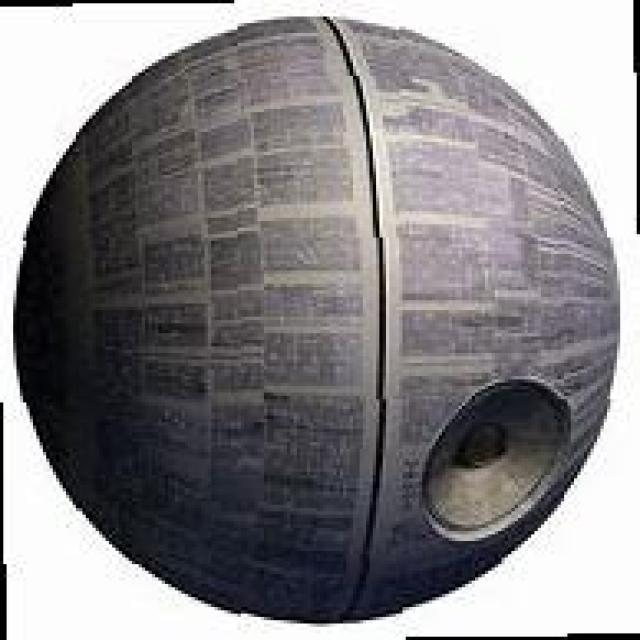Death Star: (6, 10, 624, 627)
